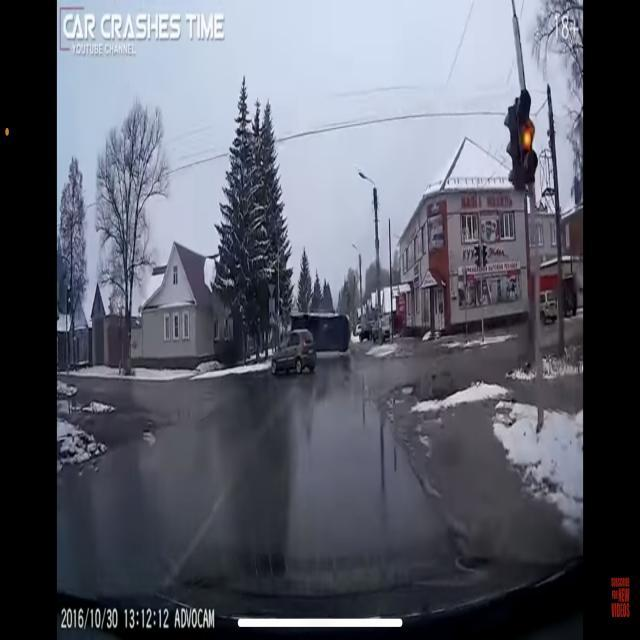accident: (265, 302, 354, 382)
